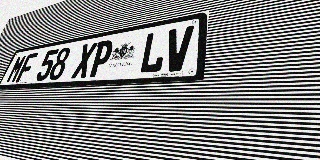5: (34, 49, 59, 81)
8: (47, 46, 73, 80)
F: (15, 52, 38, 83)
L: (138, 30, 169, 74)
M: (5, 54, 28, 83)
P: (87, 39, 115, 77)
V: (162, 25, 194, 72)
X: (71, 42, 98, 79)
